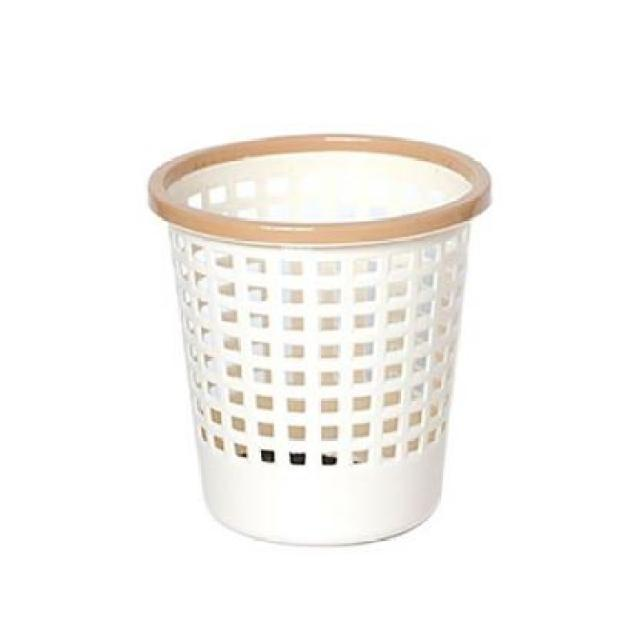dustbin: (142, 128, 498, 555)
